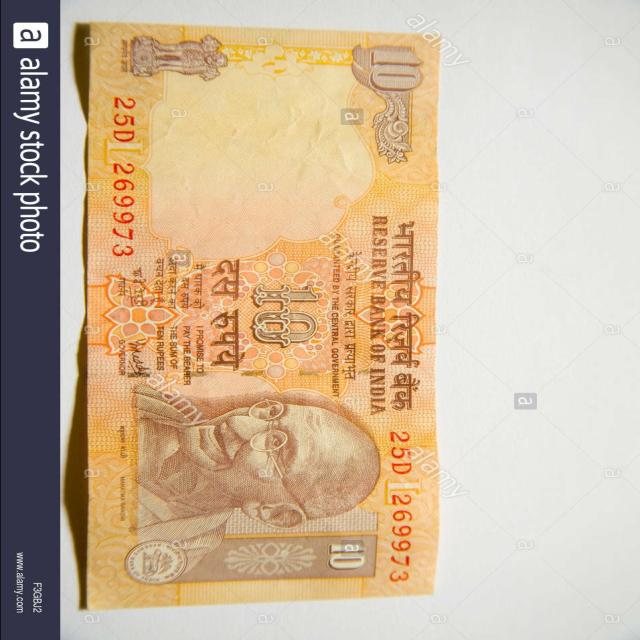10IndianRupees: (75, 22, 429, 592)
